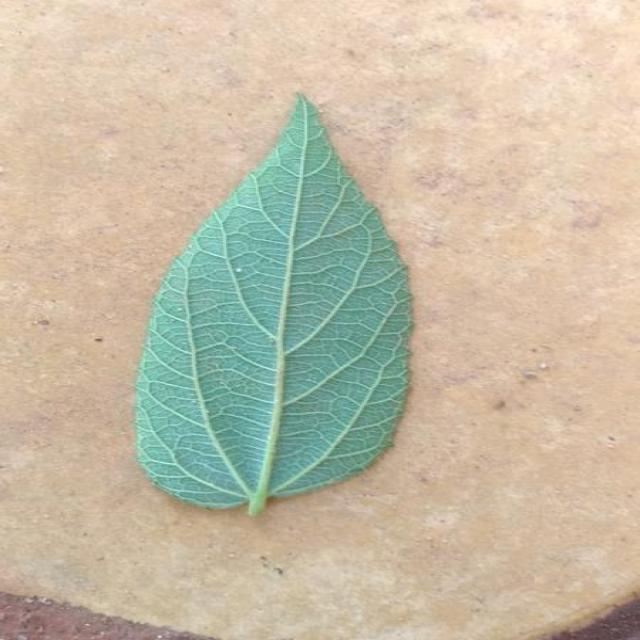gasagase: (137, 95, 412, 514)
